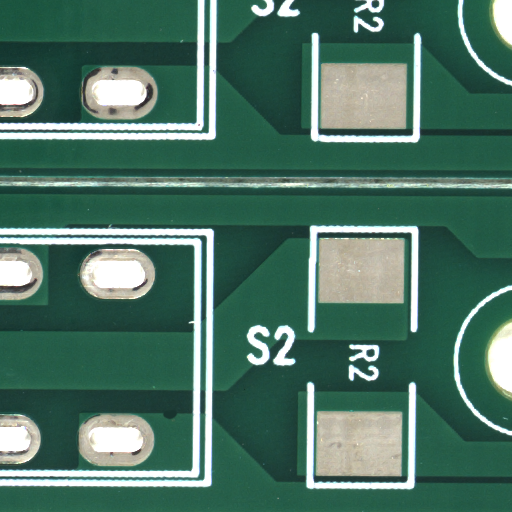Mouse_bite: (169, 414, 184, 423)
